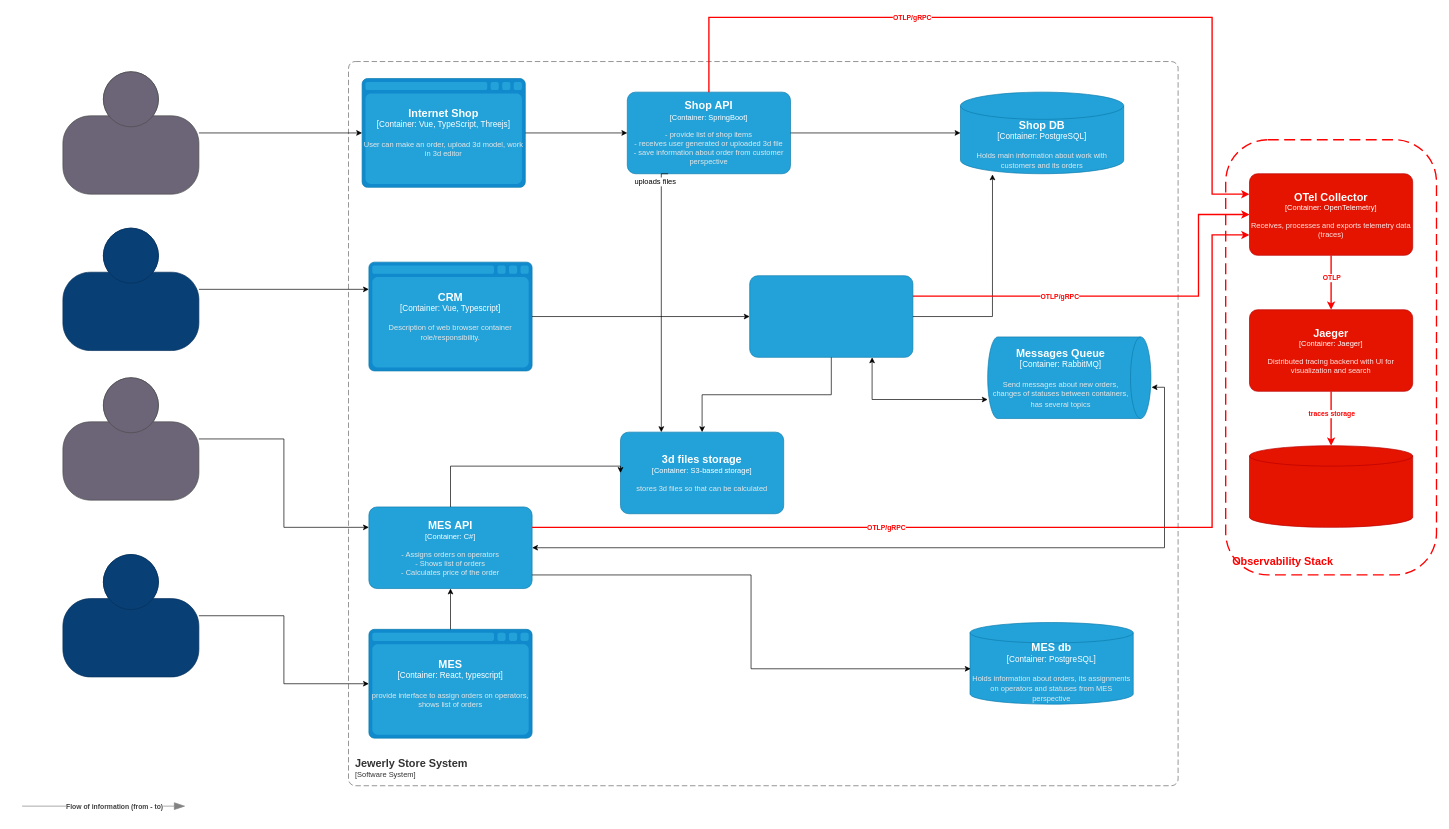
The diagram is 1449 pixels wide and 829 high, and some of its shapes have lost their labels. Here are the shapes that lost their labels. From the top down, the centre of each, then its label:
the point at 130,132: Customer [Person] Description of external person.
the point at 130,289: Seller [Person] Operates with order, confirms manufacturing for the user
the point at 831,316: CRM API [Container: SpringBoot] Description of container role/responsibility.
the point at 130,438: API user [Person] Description of external person.
the point at 1331,486: Elasticsearch [Container: Elasticsearch] Storage for traces, full-text search
the point at 130,615: Operator [Person] Takes order in work, manufactures jewerly
